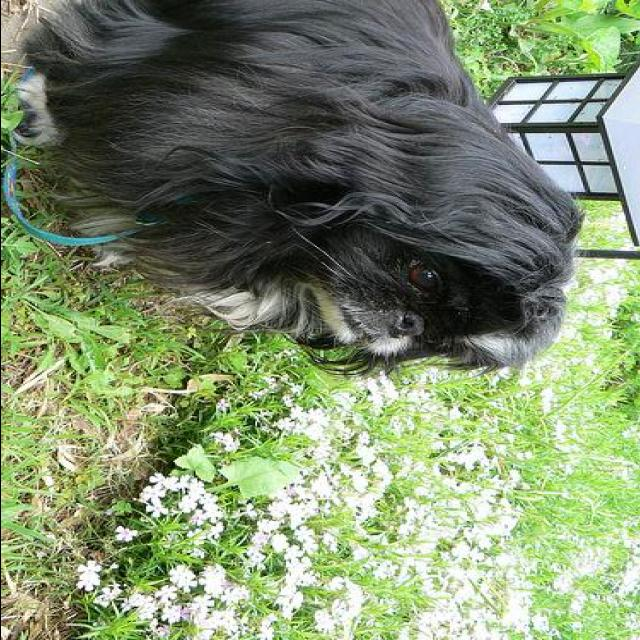pekinese: (12, 1, 582, 383)
